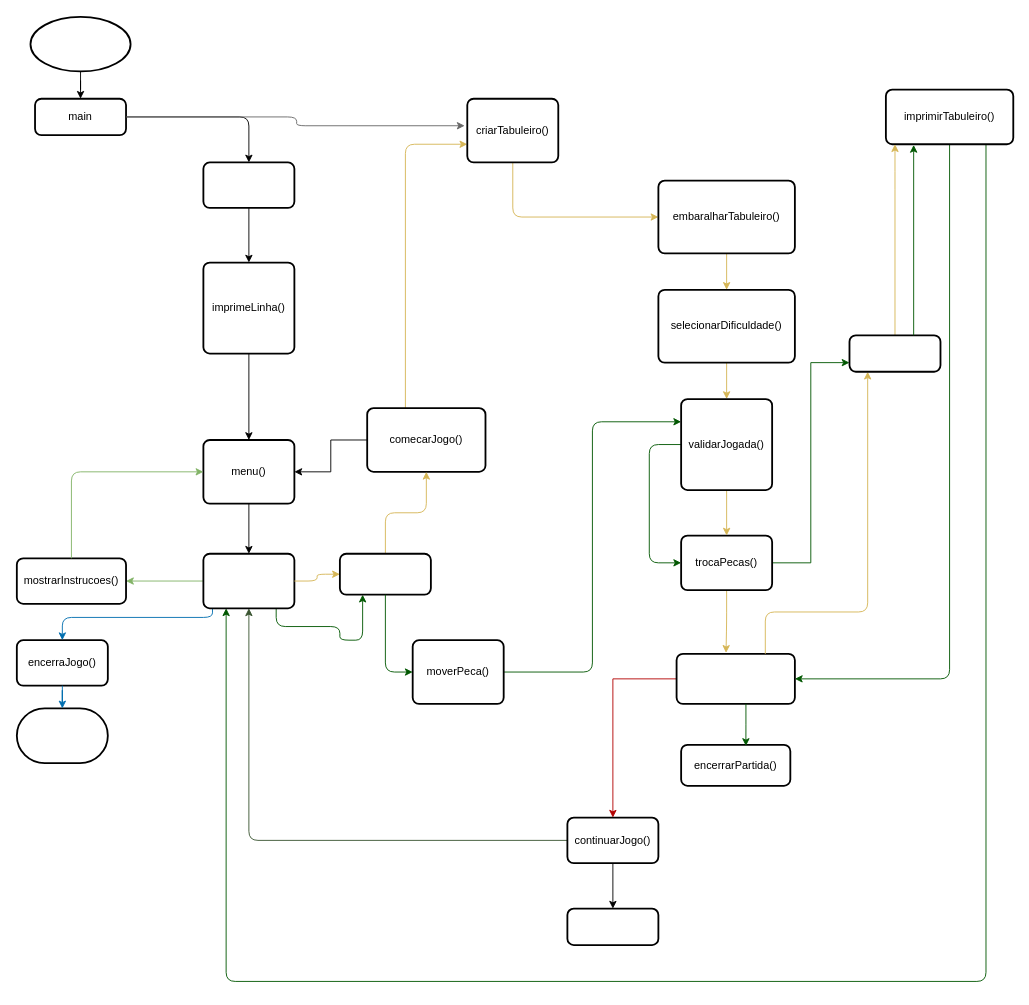
The diagram is 1029 pixels wide and 1005 high, and some of its shapes have lost their labels. The shapes that lost their labels are listed below. From the top down, each one's centre as x and y in pixels, then its label:
[80,43]: INICIO
[248,184]: bemVindo()
[894,353]: limparConsole()
[248,580]: lerOpcao()
[385,573]: limparBuffer()
[735,678]: conferirTabuleiro()
[61,735]: FIM
[612,926]: fecharPartida()
